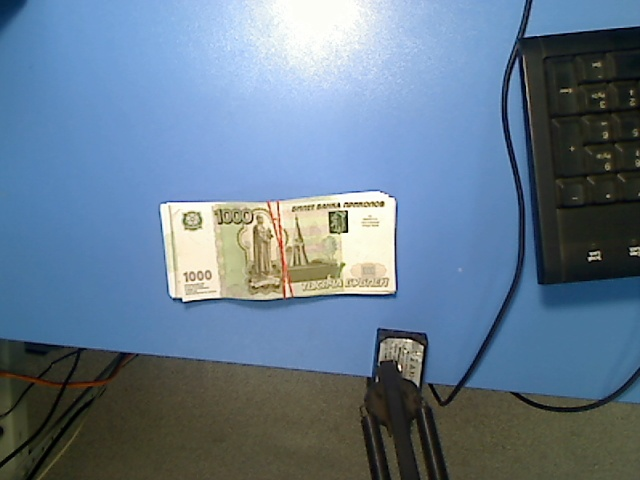banknotes: (154, 189, 403, 306)
